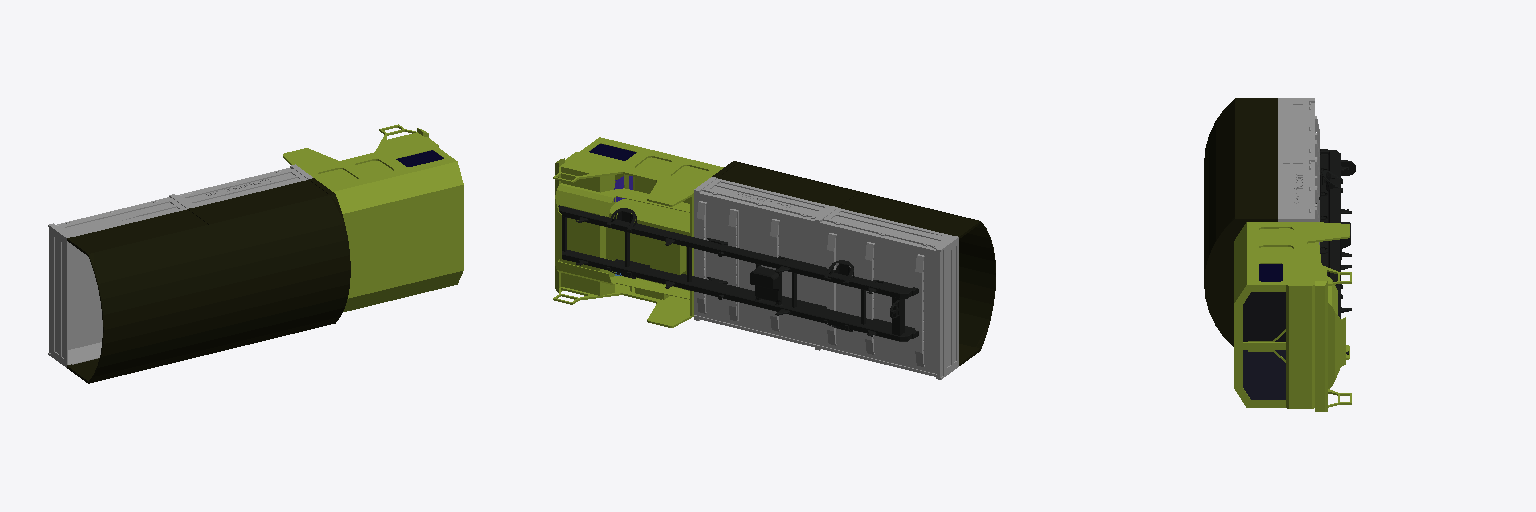
The model's file is MAN_5t_chassis.obj.
3 views of the same model, side by side, from view 1: azimuth 30°, elevation 25°; view 2: azimuth 150°, elevation 25°; view 3: azimuth 270°, elevation 25° (orthographic).
Visible parts, largest first — view 1: SOLID8, SOLID2, SOLID7; view 2: SOLID7, SOLID2, SOLID10, SOLID8; view 3: SOLID2, SOLID8, SOLID7, SOLID10, SOLID5, SOLID6.
Part boxes in pixels (left/top/right/bottom): SOLID8: left=67, top=178, right=350, bottom=383; SOLID2: left=283, top=124, right=463, bottom=311; SOLID7: left=48, top=164, right=312, bottom=367; SOLID7: left=694, top=177, right=958, bottom=379; SOLID2: left=553, top=137, right=723, bottom=327; SOLID10: left=558, top=205, right=918, bottom=341; SOLID8: left=712, top=161, right=995, bottom=365; SOLID2: left=1234, top=222, right=1351, bottom=411; SOLID8: left=1204, top=98, right=1277, bottom=346; SOLID7: left=1278, top=98, right=1319, bottom=244; SOLID10: left=1316, top=149, right=1355, bottom=354; SOLID5: left=1243, top=292, right=1285, bottom=341; SOLID6: left=1243, top=350, right=1285, bottom=399.
Bounding box in the file's own units: 7.49 × 2.47 × 2.59.